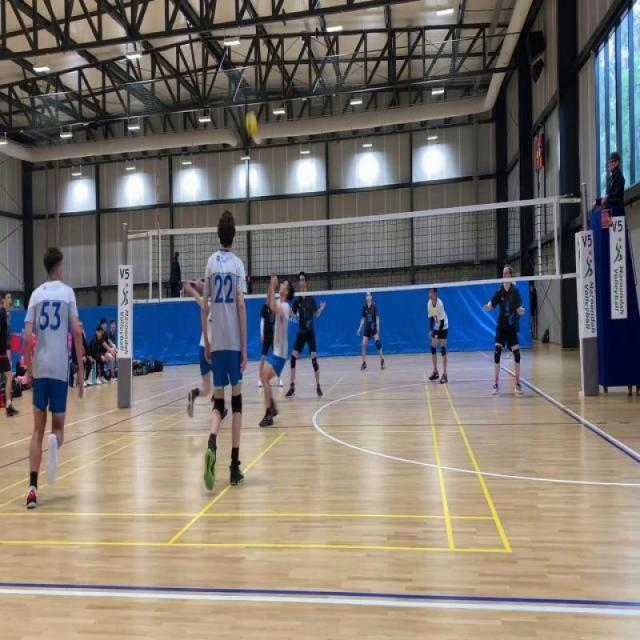volleyball: (243, 108, 260, 136)
